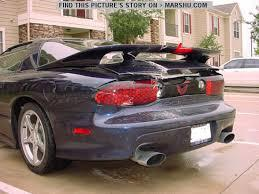Light: (93, 78, 161, 107)
